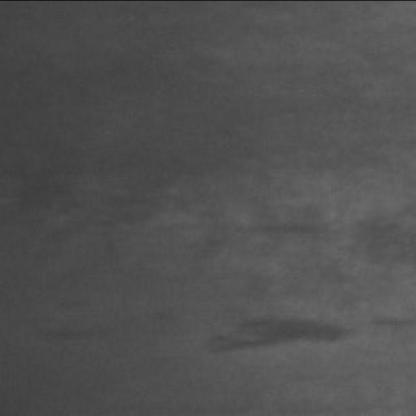inclusion: (194, 300, 364, 368), (214, 204, 348, 254), (35, 312, 100, 348)
